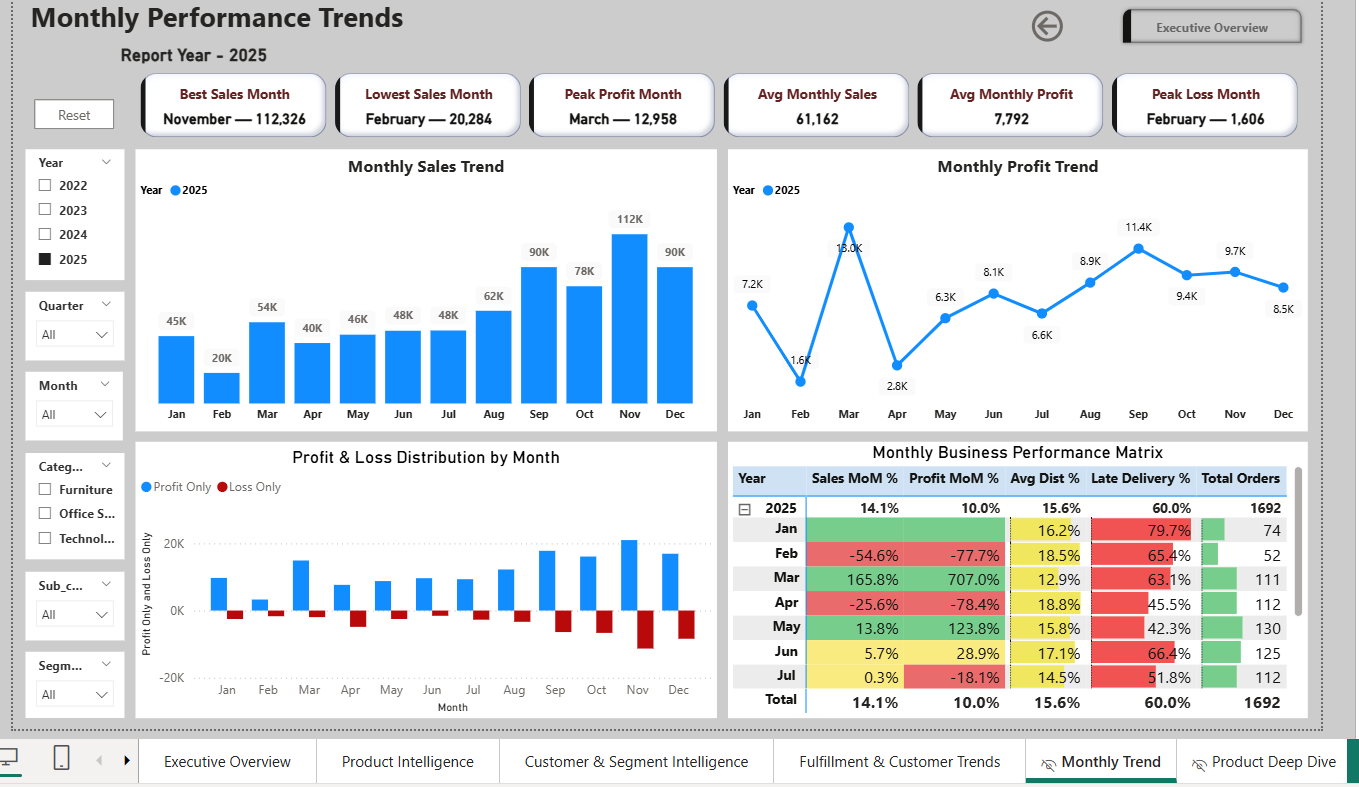

The page's visual inventory and layout, read from the dashboard file:
{"tool":"powerbi","page":{"name":"Monthly Trend","canvas":[1280,720],"ordinal":4},"visuals":[{"type":"lineChart","title":"Monthly Profit Trend","fields":{"Y":["All_Basic_Measures.Total Profit"],"Category":["Date_Table.Month"],"Series":["Date_Table.Year"]},"box":[699.5,152.9,567.4,276.4],"z":0},{"type":"clusteredColumnChart","title":"Monthly Sales Trend","fields":{"Category":["Date_Table.Month"],"Y":["All_Basic_Measures.Total Sales"],"Series":["Date_Table.Year"]},"box":[119.8,152.9,568.6,276.4],"z":1000},{"type":"textbox","box":[12.2,0,425.5,46.5],"z":2000},{"type":"cardVisual","fields":{"Data":["_Measures_Financial.Best Sales Month","_Measures_Financial.Worst Sales Month","_Measures_Financial.Peak Profit Month","_Measures_Financial.Avg Monthly Sales","_Measures_Financial.Avg Monthly Profit","_Measures_Financial.Peak Loss Month"]},"box":[119.8,73.4,1147,73.4],"z":3000},{"type":"slicer","fields":{"Values":["Customer.segment"]},"box":[12,644.4,96.6,64.8],"z":4000},{"type":"slicer","fields":{"Values":["Date_Table.Quarter"]},"box":[12,292.3,96.6,67.3],"z":5000},{"type":"card","fields":{"Values":["_Measure_customerKPI.Dynamic Year Title"]},"box":[72.1,46.5,210.3,25.7],"z":6000},{"type":"slicer","fields":{"Values":["Product.Category"]},"box":[12,450,96.6,103.9],"z":7000},{"type":"slicer","fields":{"Values":["sales_analytics date_dim.year"]},"box":[12,152.9,96.6,128.4],"z":8000},{"type":"pageNavigator","box":[1082.2,12.2,182.2,40.4],"z":9000},{"type":"slicer","fields":{"Values":["Product.Sub_category"]},"box":[12,566.2,96.6,67.3],"z":10000},{"type":"slicer","fields":{"Values":["sales_analytics date_dim.month_name"]},"box":[12,370.5,95.4,67.3],"z":11000},{"type":"clusteredColumnChart","title":"Profit & Loss Distribution by Month","fields":{"Y":["_Measures_Financial.Profit Only","_Measures_Financial.Loss Only"],"Category":["Date_Table.Month"]},"box":[119.8,439,568.6,270.2],"z":12000},{"type":"pivotTable","title":"Monthly Business Performance Matrix","fields":{"Values":["_Measures_Financial.Sales MoM %","_Measures_Financial.Profit MoM %","_Measures_Financial.Discount Avg %","_Measure_productKPIs.Late Shipment %","All_Basic_Measures.Total Orders"],"Rows":["Date_Table.Year","Date_Table.Month"]},"box":[699.5,439,567.4,270.2],"z":13000},{"type":"actionButton","box":[991.7,12.2,70.9,40.4],"z":14000},{"type":"actionButton","box":[20.8,103.9,78.3,29.3],"z":15000}]}

Visuals, with their boxes on the page's 1280x720 design canvas (x1, y1, x2, y2). These are canvas units, not pixel positions in the 1359x787 screenshot, which may show the page scaled, cropped or inside an application window:
"Monthly Profit Trend" lineChart: (700,153,1267,429)
"Monthly Sales Trend" clusteredColumnChart: (120,153,688,429)
textbox: (12,0,438,46)
cardVisual - _Measures_Financial.Best Sales Month x _Measures_Financial.Worst Sales Month: (120,73,1267,147)
slicer - Customer.segment: (12,644,109,709)
slicer - Date_Table.Quarter: (12,292,109,360)
card - _Measure_customerKPI.Dynamic Year Title: (72,46,282,72)
slicer - Product.Category: (12,450,109,554)
slicer - sales_analytics date_dim.year: (12,153,109,281)
pageNavigator: (1082,12,1264,53)
slicer - Product.Sub_category: (12,566,109,634)
slicer - sales_analytics date_dim.month_name: (12,370,107,438)
"Profit & Loss Distribution by Month" clusteredColumnChart: (120,439,688,709)
"Monthly Business Performance Matrix" pivotTable: (700,439,1267,709)
actionButton: (992,12,1063,53)
actionButton: (21,104,99,133)
